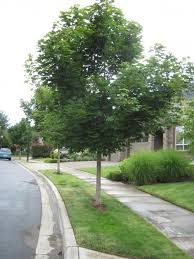tree: (18, 1, 183, 218)
